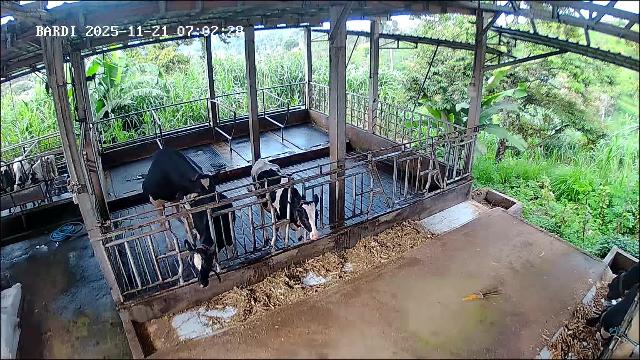mounting: (144, 149, 220, 250)
